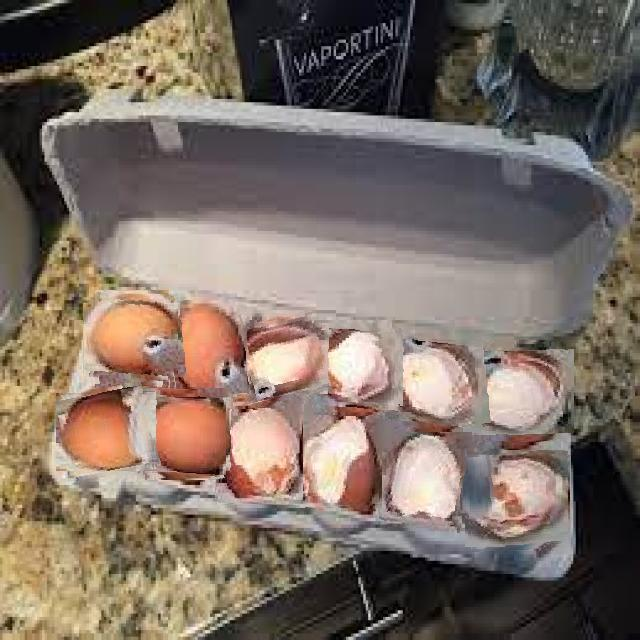biodegradable: (467, 450, 568, 552), (468, 342, 568, 441), (217, 394, 303, 504), (57, 384, 154, 480), (382, 432, 472, 530), (388, 334, 482, 427), (86, 294, 178, 385), (234, 314, 325, 404), (165, 299, 247, 397), (309, 323, 398, 412), (299, 416, 382, 509), (140, 390, 226, 478)
